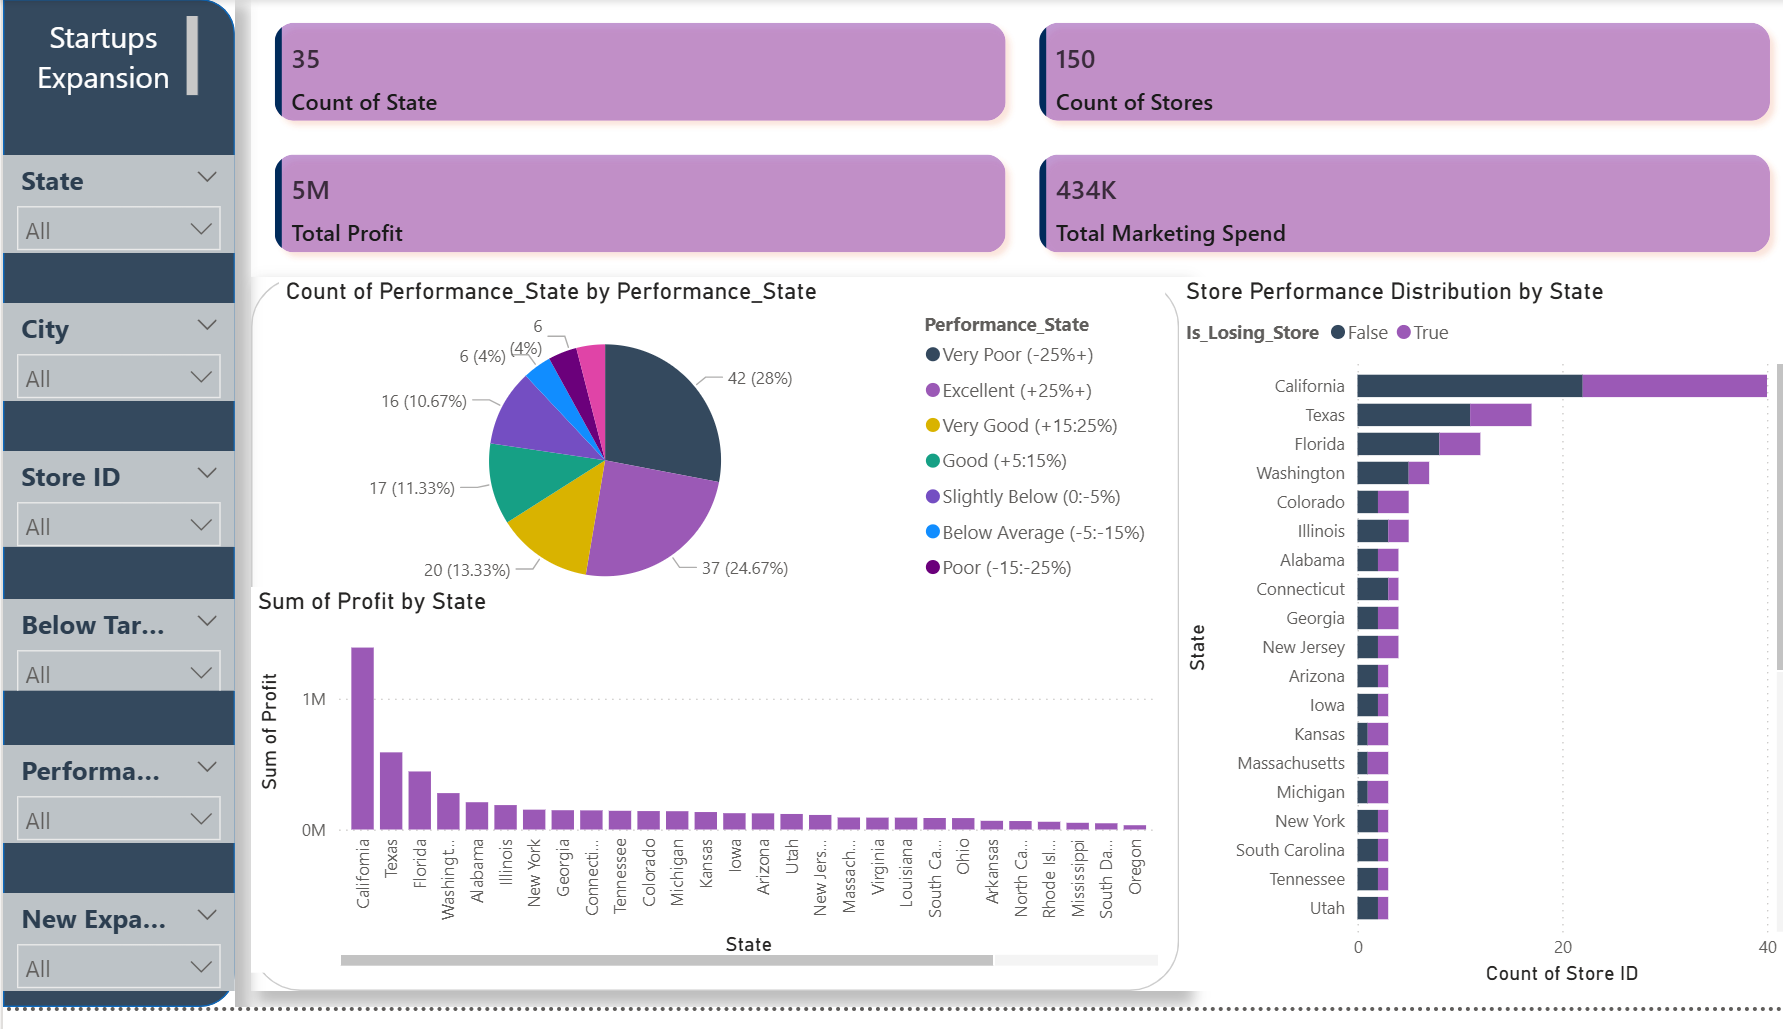

What the dashboard file says about the page in this screenshot:
{"tool":"powerbi","page":{"name":"Perfermance","canvas":[1280,720],"ordinal":0},"visuals":[{"type":"shape","box":[0,0,165.7,720],"z":0},{"type":"cardVisual","fields":{"Data":["Count(Sheet1.State)","CountNonNull(Sheet1.Store ID)","Sum(Sheet1.Profit)","Sum(Sheet1.Marketing Spend)"]},"box":[177.1,0,1102.9,198.6],"z":1000},{"type":"textbox","box":[7.5,7.5,137.1,75],"z":2000},{"type":"shape","box":[176.6,199,663,510],"z":3000},{"type":"slicer","fields":{"Values":["Sheet1.State"]},"box":[0,111.4,165.7,70],"z":12000},{"type":"slicer","fields":{"Values":["Sheet1.Store ID"]},"box":[0,322.9,165.7,68.6],"z":13000},{"type":"slicer","fields":{"Values":["Sheet1.City"]},"box":[0,217.1,165.7,70],"z":14000},{"type":"slicer","fields":{"Values":["Sheet1.New Expansion"]},"box":[0,638.6,165.7,70],"z":15000},{"type":"slicer","fields":{"Values":["Sheet1.Is_Losing_State"]},"box":[0,428.6,165.7,65.7],"z":16000},{"type":"slicer","fields":{"Values":["Sheet1.Performance_State"]},"box":[0,532.9,165.7,70],"z":17000},{"type":"barChart","title":"Store Performance Distribution by State","fields":{"Category":["Sheet1.State"],"Series":["Sheet1.Is_Losing_State"],"Y":["CountNonNull(Sheet1.Store ID)"]},"box":[840,198.6,440,510],"z":17001},{"type":"pieChart","fields":{"Category":["Sheet1.Performance_State"],"Y":["CountNonNull(Sheet1.Performance_State)"]},"box":[197.1,198.6,632.9,242.9],"z":17002},{"type":"clusteredColumnChart","fields":{"Category":["Sheet1.State"],"Y":["Sum(Sheet1.Profit)"]},"box":[177.1,420,652.9,275.7],"z":17003}]}

Visuals, with their boxes on the page's 1280x720 design canvas (x1, y1, x2, y2). These are canvas units, not pixel positions in the 1783x1029 screenshot, which may show the page scaled, cropped or inside an application window:
shape: box=[0, 0, 166, 720]
cardVisual - Count(Sheet1.State) x CountNonNull(Sheet1.Store ID): box=[177, 0, 1280, 199]
textbox: box=[8, 8, 145, 82]
shape: box=[177, 199, 840, 709]
slicer - Sheet1.State: box=[0, 111, 166, 181]
slicer - Sheet1.Store ID: box=[0, 323, 166, 392]
slicer - Sheet1.City: box=[0, 217, 166, 287]
slicer - Sheet1.New Expansion: box=[0, 639, 166, 709]
slicer - Sheet1.Is_Losing_State: box=[0, 429, 166, 494]
slicer - Sheet1.Performance_State: box=[0, 533, 166, 603]
"Store Performance Distribution by State" barChart: box=[840, 199, 1280, 709]
pieChart - Sheet1.Performance_State x CountNonNull(Sheet1.Performance_State): box=[197, 199, 830, 442]
clusteredColumnChart - Sheet1.State x Sum(Sheet1.Profit): box=[177, 420, 830, 696]
